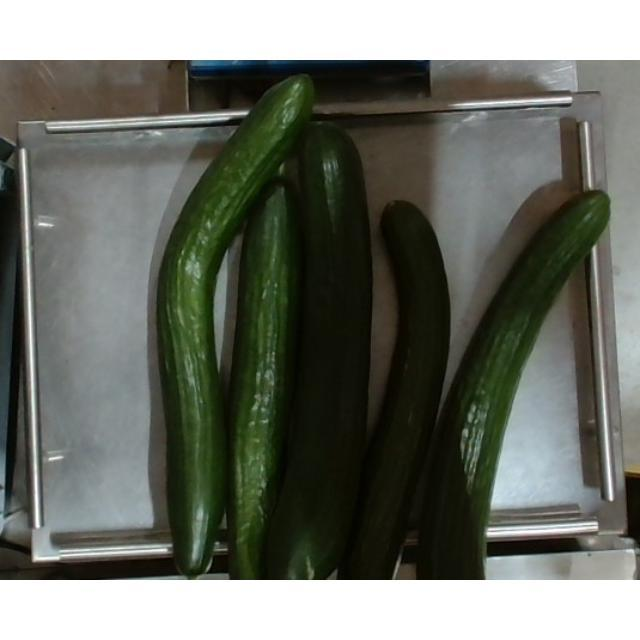cucumber: (155, 62, 313, 572), (416, 192, 610, 580), (266, 114, 396, 578), (328, 192, 448, 580), (238, 168, 312, 580)
